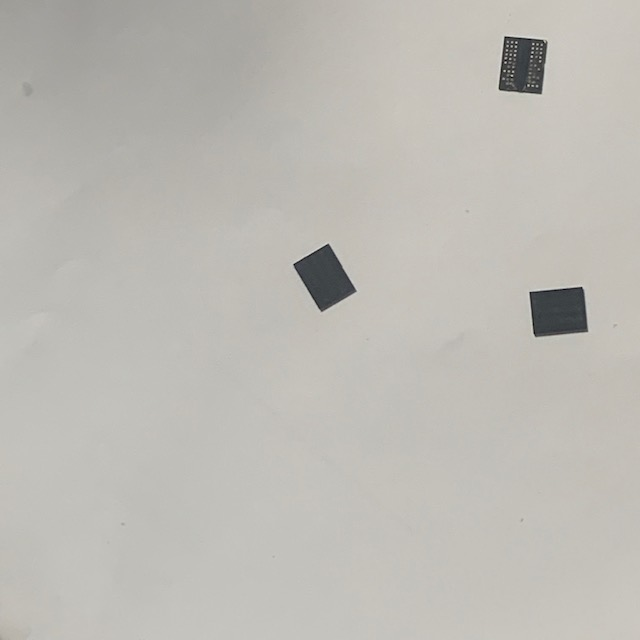IC: (289, 240, 360, 316), (496, 32, 551, 99), (526, 285, 591, 340)
